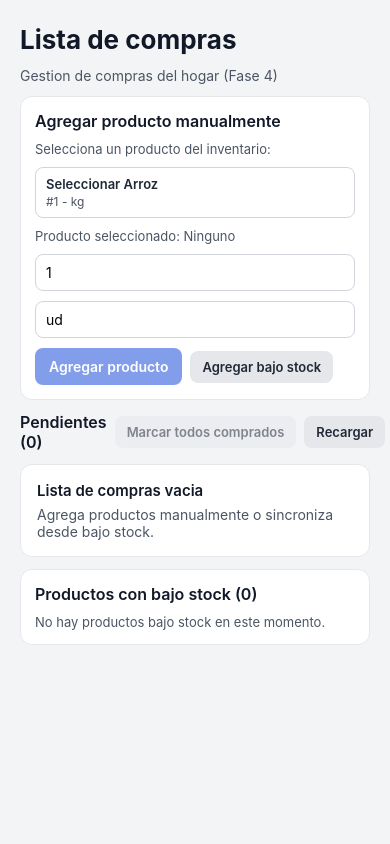
Test: ShoppingListScreen › sincroniza productos bajo stock
Expected: the text "Lista de compras vacia" is shown, [37,481,203,500]
Click the element showing "Agregar bajo stock" at (262, 366), box [190,350,333,382]
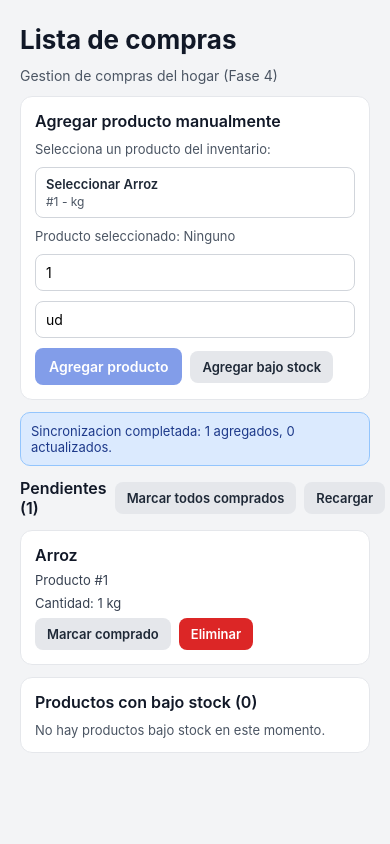
Expected: the text "Sincronizacion completada: 1 agregados, 0 actualizados." is shown, [31,423,298,455]
